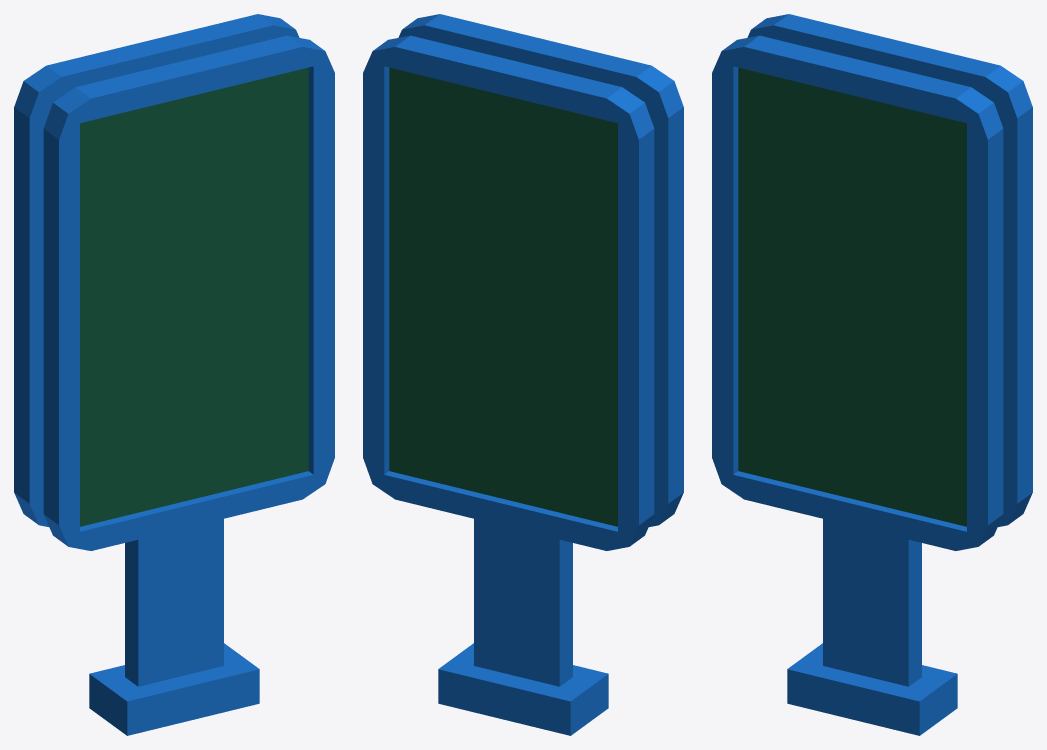
File: T_street_advertising1.fbx
3 views of the same model, side by side, from view 1: azimuth 30°, elevation 25°; view 2: azimuth 150°, elevation 25°; view 3: azimuth 330°, elevation 25° (orthographic).
Parts seen in each view (by area): view 1: street_advertising1; view 2: street_advertising1; view 3: street_advertising1.
Boxes of the visible parts, bbox=[...] form: street_advertising1: bbox=[14, 14, 334, 735]; street_advertising1: bbox=[363, 14, 683, 735]; street_advertising1: bbox=[712, 14, 1032, 735].
Size of the model in its own units: 83.75 by 189 by 23.64.
